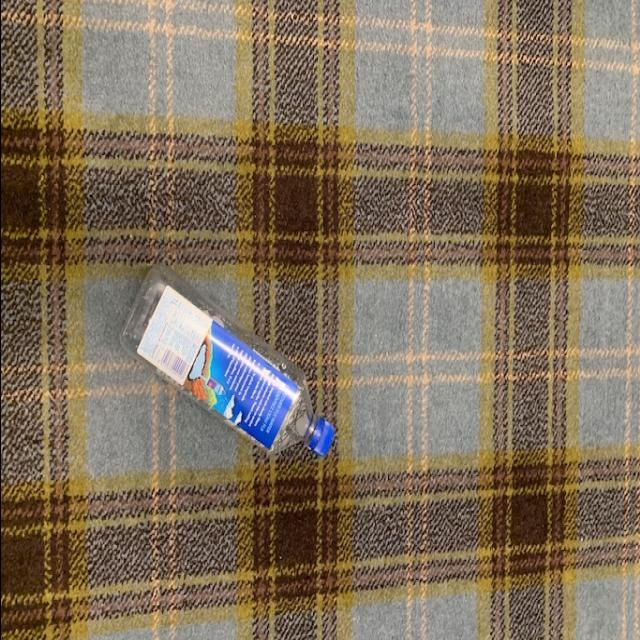PET: (114, 260, 336, 466)
